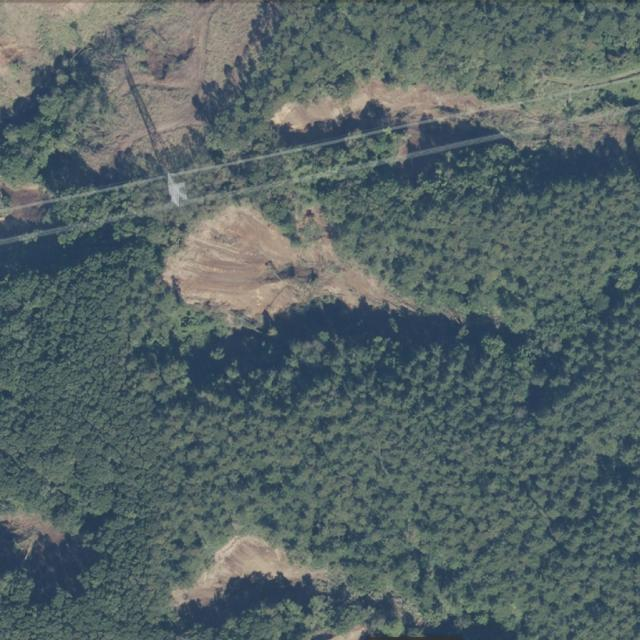landslide: (163, 205, 413, 325), (271, 79, 485, 130), (172, 537, 326, 607)
